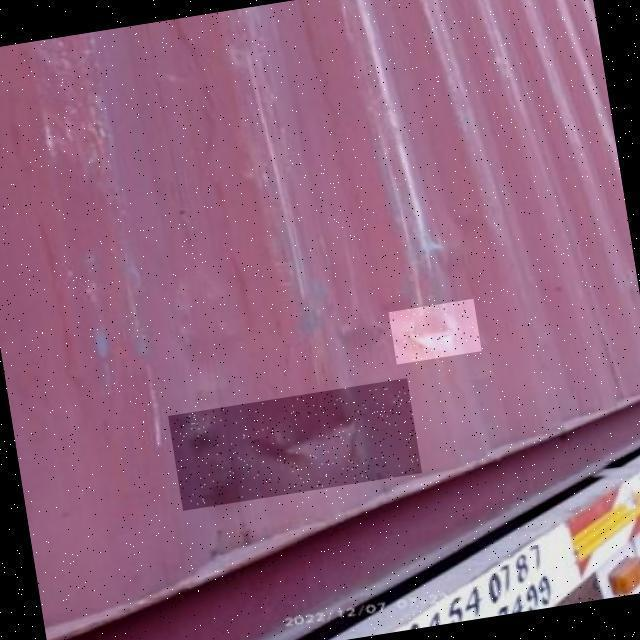dent: (169, 379, 423, 512), (390, 300, 483, 366)
